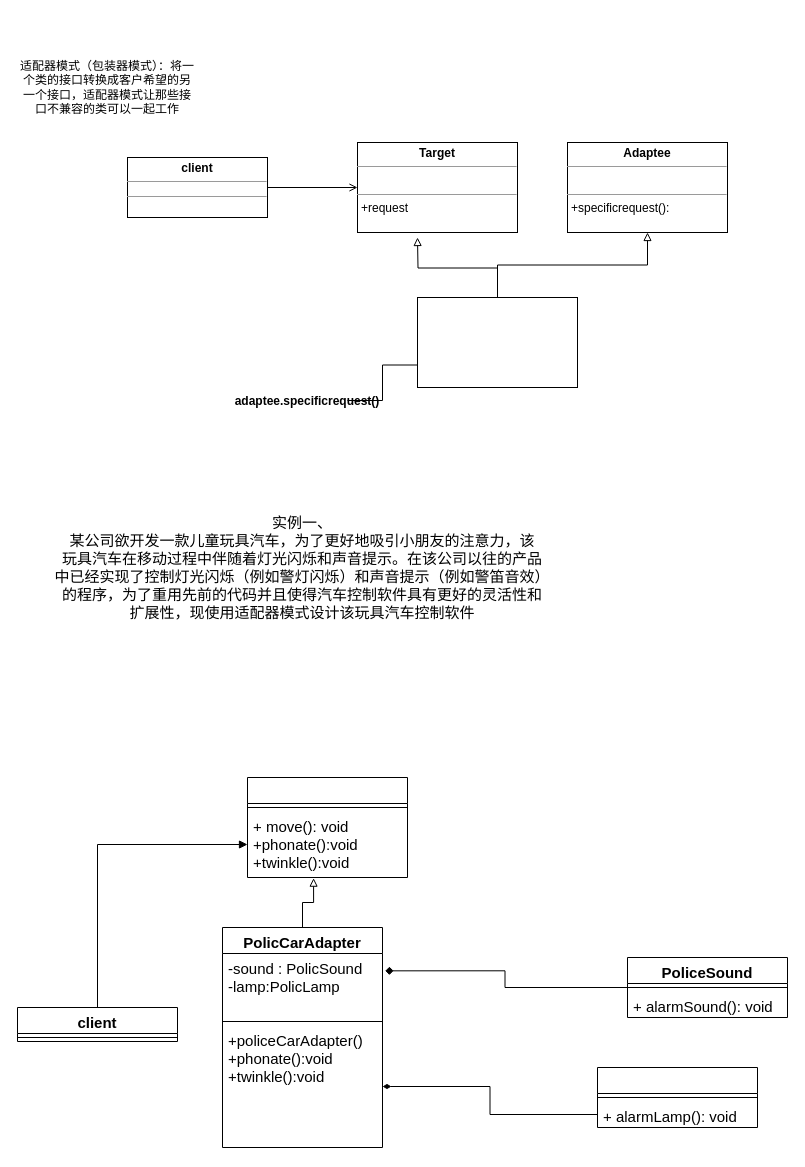
This 805x1167 diagram has some shape labels left out. Each missing label, with the box of its shape:
Adapter + adaptee: Adaptee +request():: (416, 296, 578, 388)
CarController: (246, 776, 408, 878)
PoliceLamp: (596, 1066, 758, 1128)
